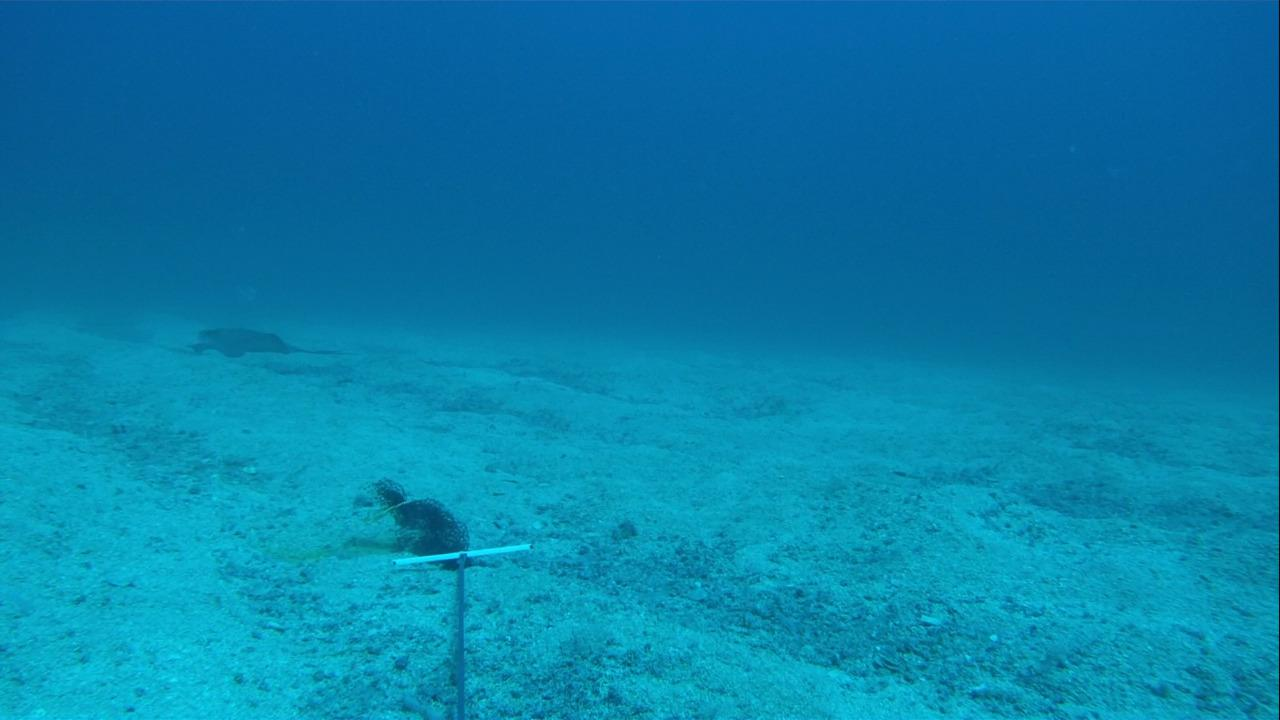myliobatis: (177, 323, 343, 360)
